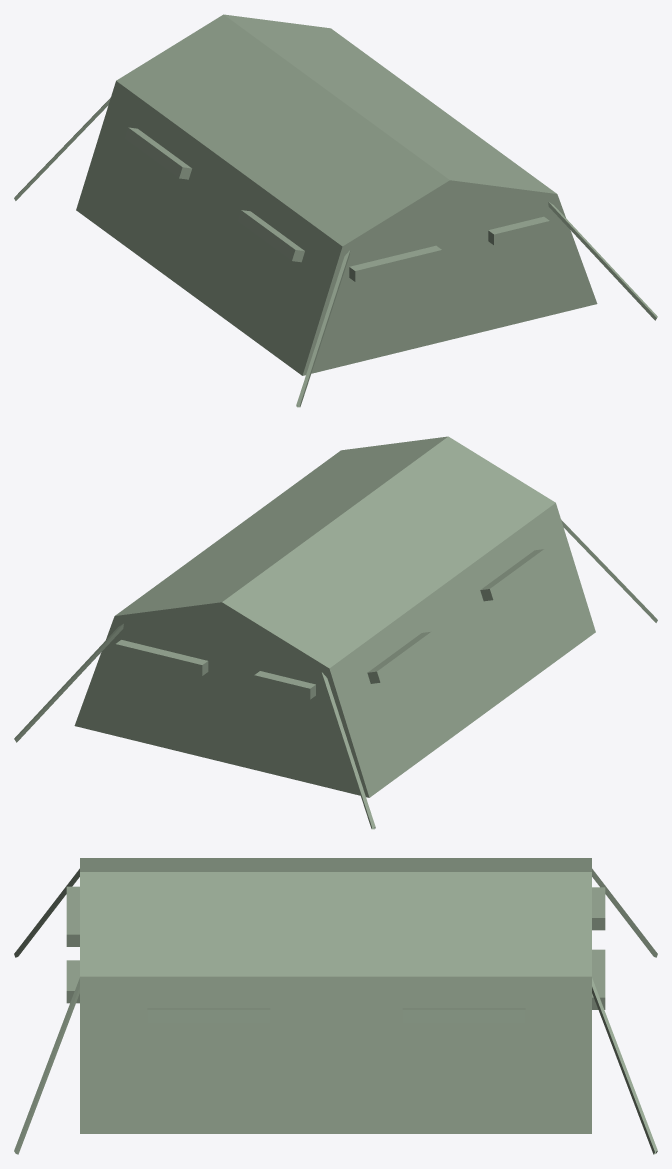
Rendered from tent_01.fbx.
3 renders of one model, top to bottom at view 1: azimuth 30°, elevation 25°; view 2: azimuth 150°, elevation 25°; view 3: azimuth 270°, elevation 25°, orthographic. The views are drawn at different scales.
Parts seen in each view (by area): view 1: tent_01; view 2: tent_01; view 3: tent_01.
Boxes of the visible parts, box(x1,y1,x2,y2) form: tent_01: box(14, 14, 657, 407); tent_01: box(14, 436, 657, 829); tent_01: box(14, 858, 657, 1154).
Bounding box in the file's own units: 12.51 × 5.39 × 17.08.
